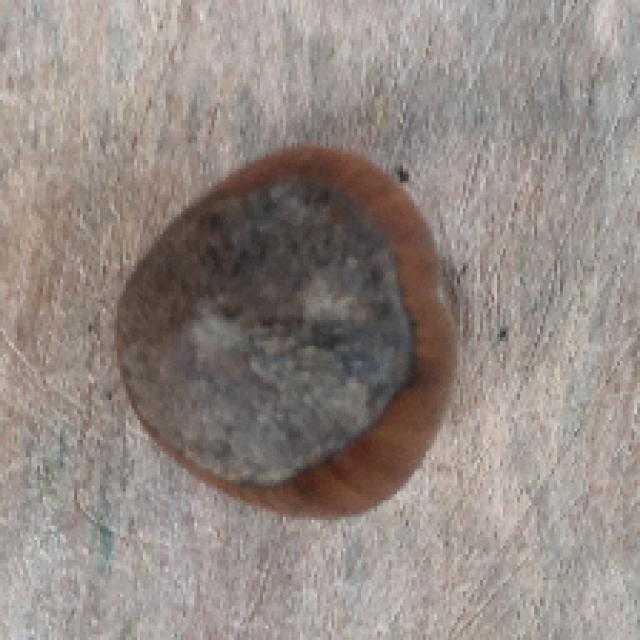damagedHazelnut: (116, 139, 465, 527)
